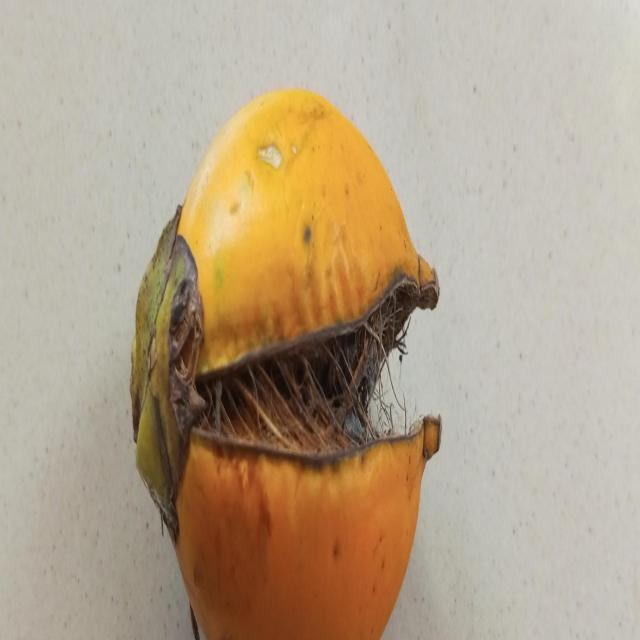damaged: (130, 89, 442, 640)
